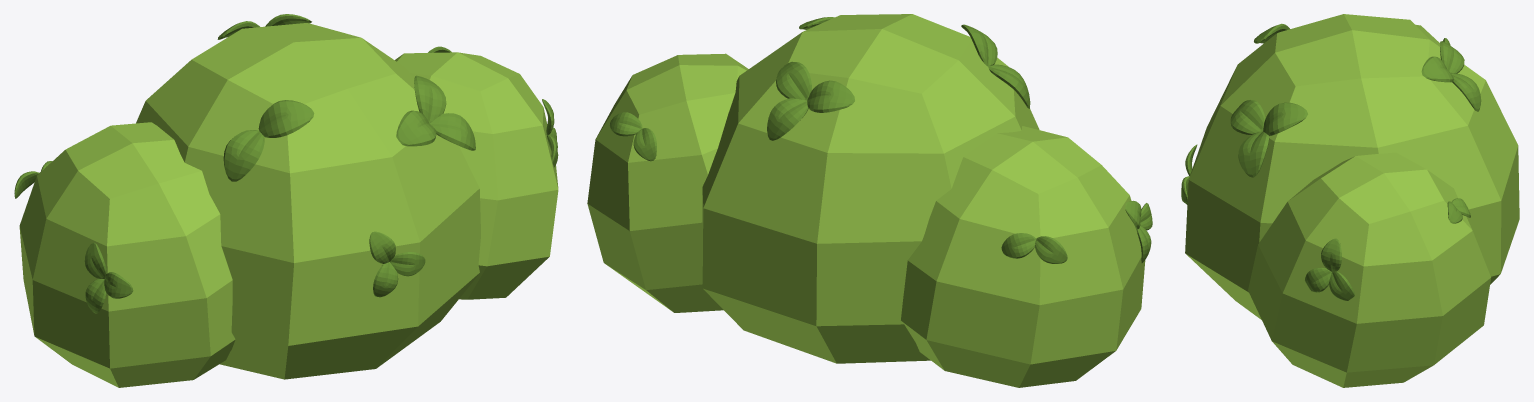
Rendered from bush_big_leaf.fbx.
3 views of the same model, side by side, from view 1: azimuth 30°, elevation 25°; view 2: azimuth 150°, elevation 25°; view 3: azimuth 270°, elevation 25° (orthographic). The views are drawn at different scales.
Parts seen in each view (by area): view 1: Cube.043, Cube.153, Cube.154, Cube.165, Cube.164, Cube.157, Cube.156, Cube.159, Cube.160, Cube.161, Cube.155, Cube.163; view 2: Cube.043, Cube.153, Cube.154, Cube.155, Cube.162, Cube.158, Cube.164, Cube.156, Cube.157; view 3: Cube.043, Cube.154, Cube.155, Cube.163, Cube.161, Cube.160, Cube.159, Cube.158, Cube.165, Cube.157.
Part boxes in pixels (x1,y1,x2,y2): Cube.043: (136, 23, 480, 379); Cube.153: (19, 122, 235, 387); Cube.154: (395, 52, 558, 299); Cube.165: (369, 231, 425, 297); Cube.164: (84, 242, 133, 313); Cube.157: (258, 100, 314, 137); Cube.156: (223, 130, 264, 181); Cube.159: (396, 110, 436, 146); Cube.160: (429, 113, 475, 150); Cube.161: (414, 75, 446, 123); Cube.155: (217, 14, 311, 39); Cube.163: (542, 99, 558, 167); Cube.043: (702, 14, 1039, 363); Cube.153: (901, 126, 1145, 387); Cube.154: (587, 53, 748, 312); Cube.155: (767, 61, 854, 140); Cube.162: (1001, 233, 1067, 263); Cube.158: (610, 112, 656, 161); Cube.164: (1125, 200, 1152, 262); Cube.156: (988, 64, 1030, 108); Cube.157: (961, 24, 997, 66); Cube.043: (1185, 14, 1519, 319); Cube.154: (1248, 152, 1491, 387); Cube.155: (1421, 41, 1481, 111); Cube.163: (1305, 238, 1354, 300); Cube.161: (1263, 102, 1307, 136); Cube.160: (1238, 131, 1269, 177); Cube.159: (1230, 100, 1265, 135); Cube.158: (1447, 198, 1470, 223); Cube.165: (1181, 144, 1197, 204); Cube.157: (1254, 23, 1289, 43).
Bounding box in the file's own units: 2.9 × 1.8 × 1.63.
